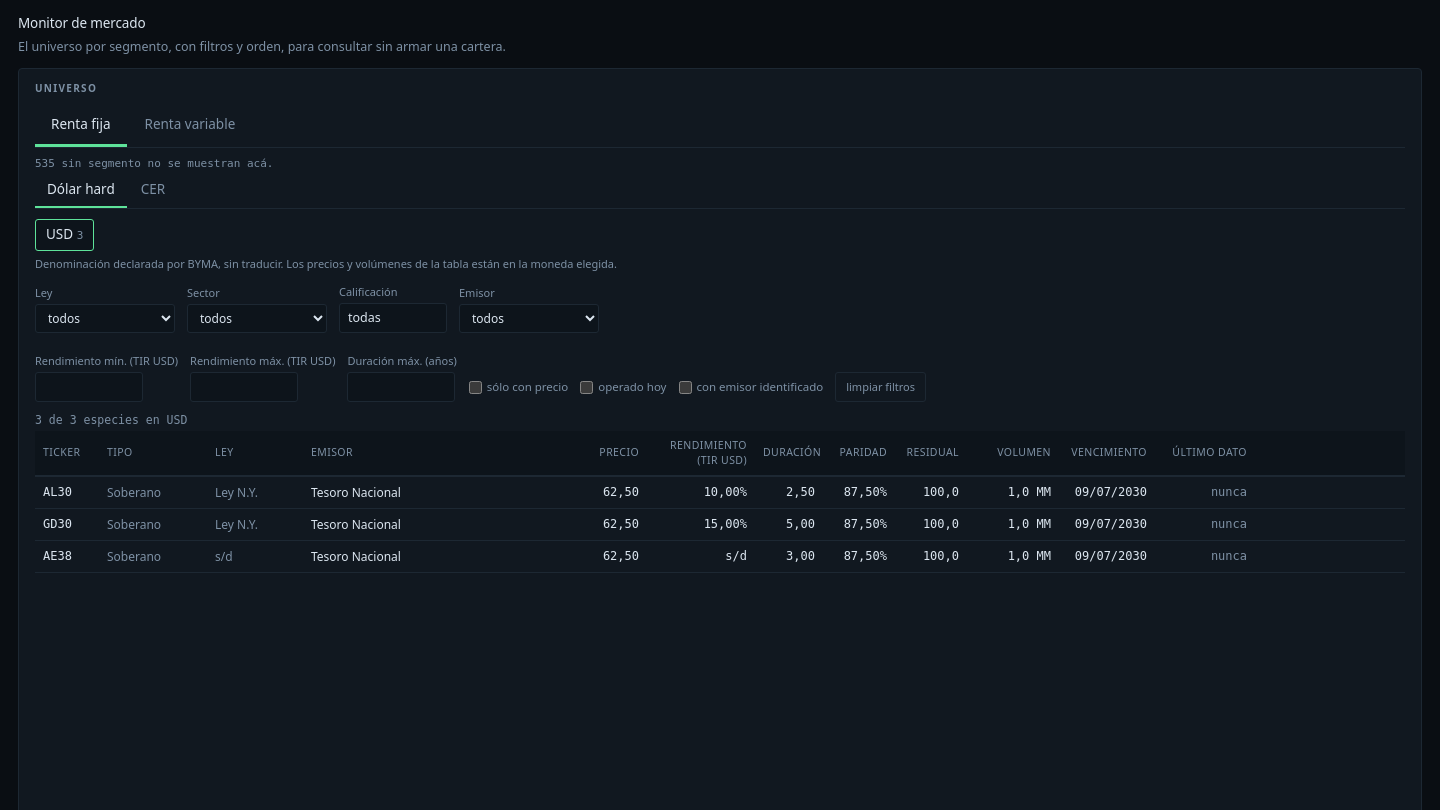
Test: un solo segmento a la vez › la unidad de rendimiento de la cabecera y de los filtros cambia con el segmento activo
Expected: the button "rendimiento (TIR USD)" is shown, [647,430,755,476]
What coordinates should you click on to do the following:
click the button "CER"
I would click on:
 (153, 190)
Its box is [129,172,177,208].
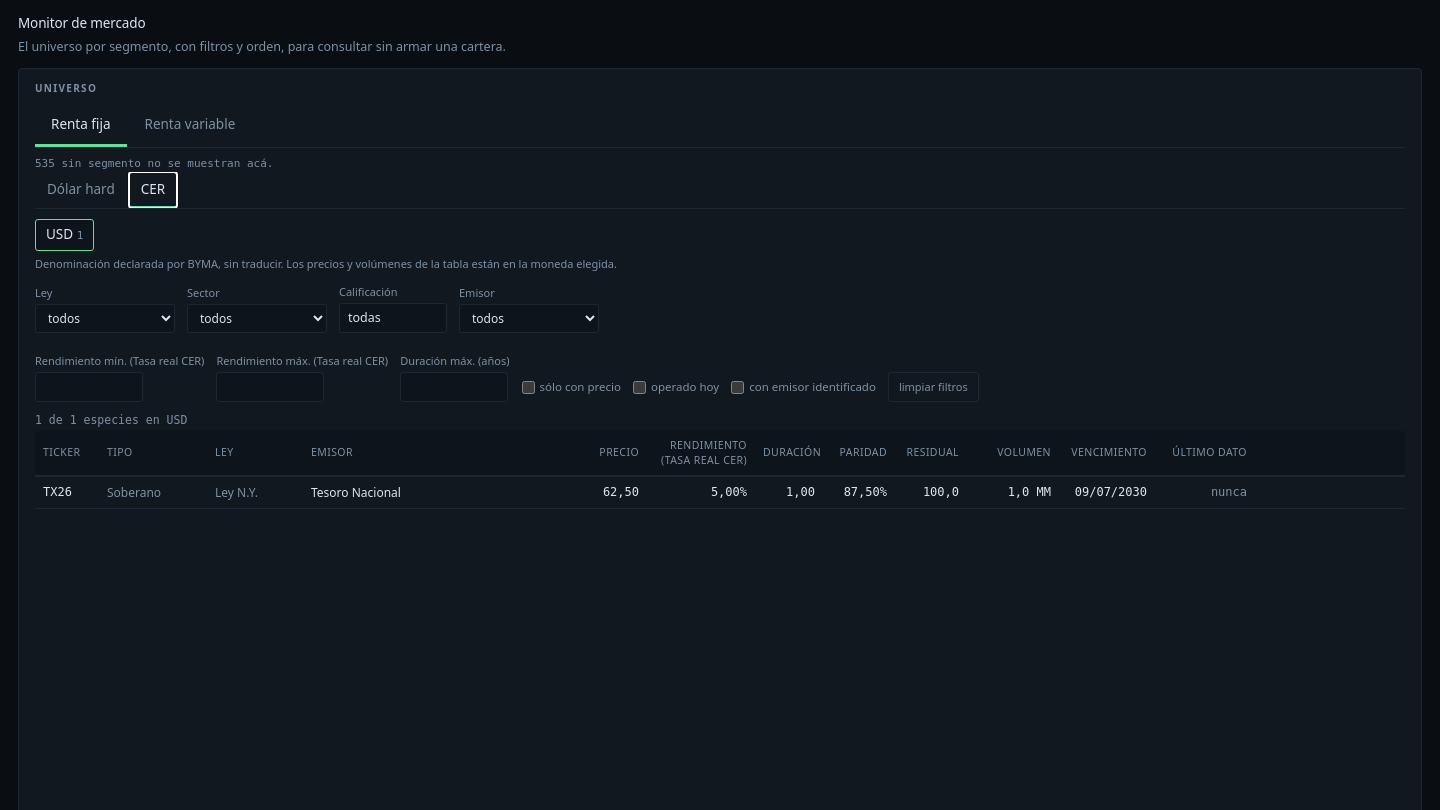
Expected: the button "rendimiento (Tasa real CER)" is shown, [647,430,755,476]
Expected: the text "TIR USD" is gone
